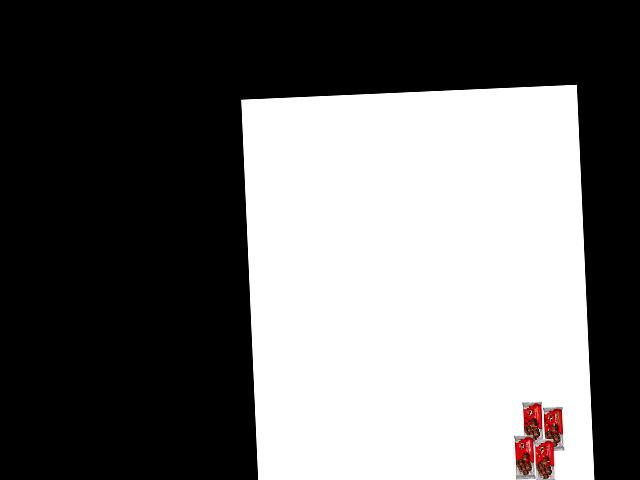chocolate: (539, 403, 566, 454)
